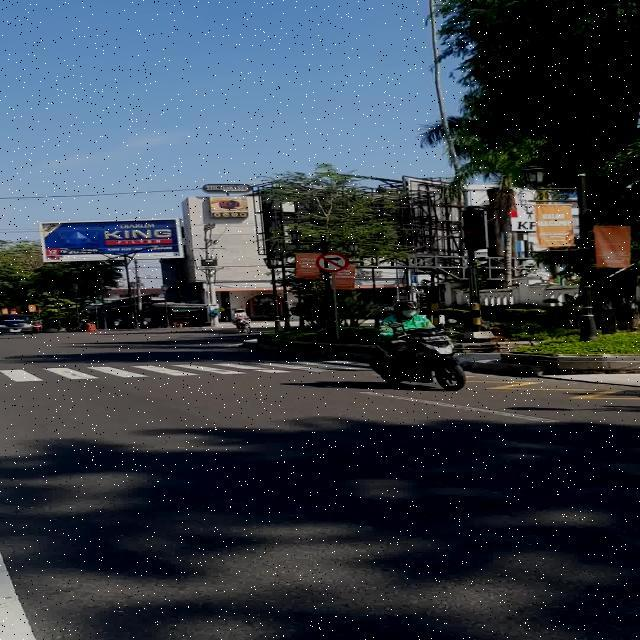Dilarang Belok Kanan: (316, 253, 348, 272)
